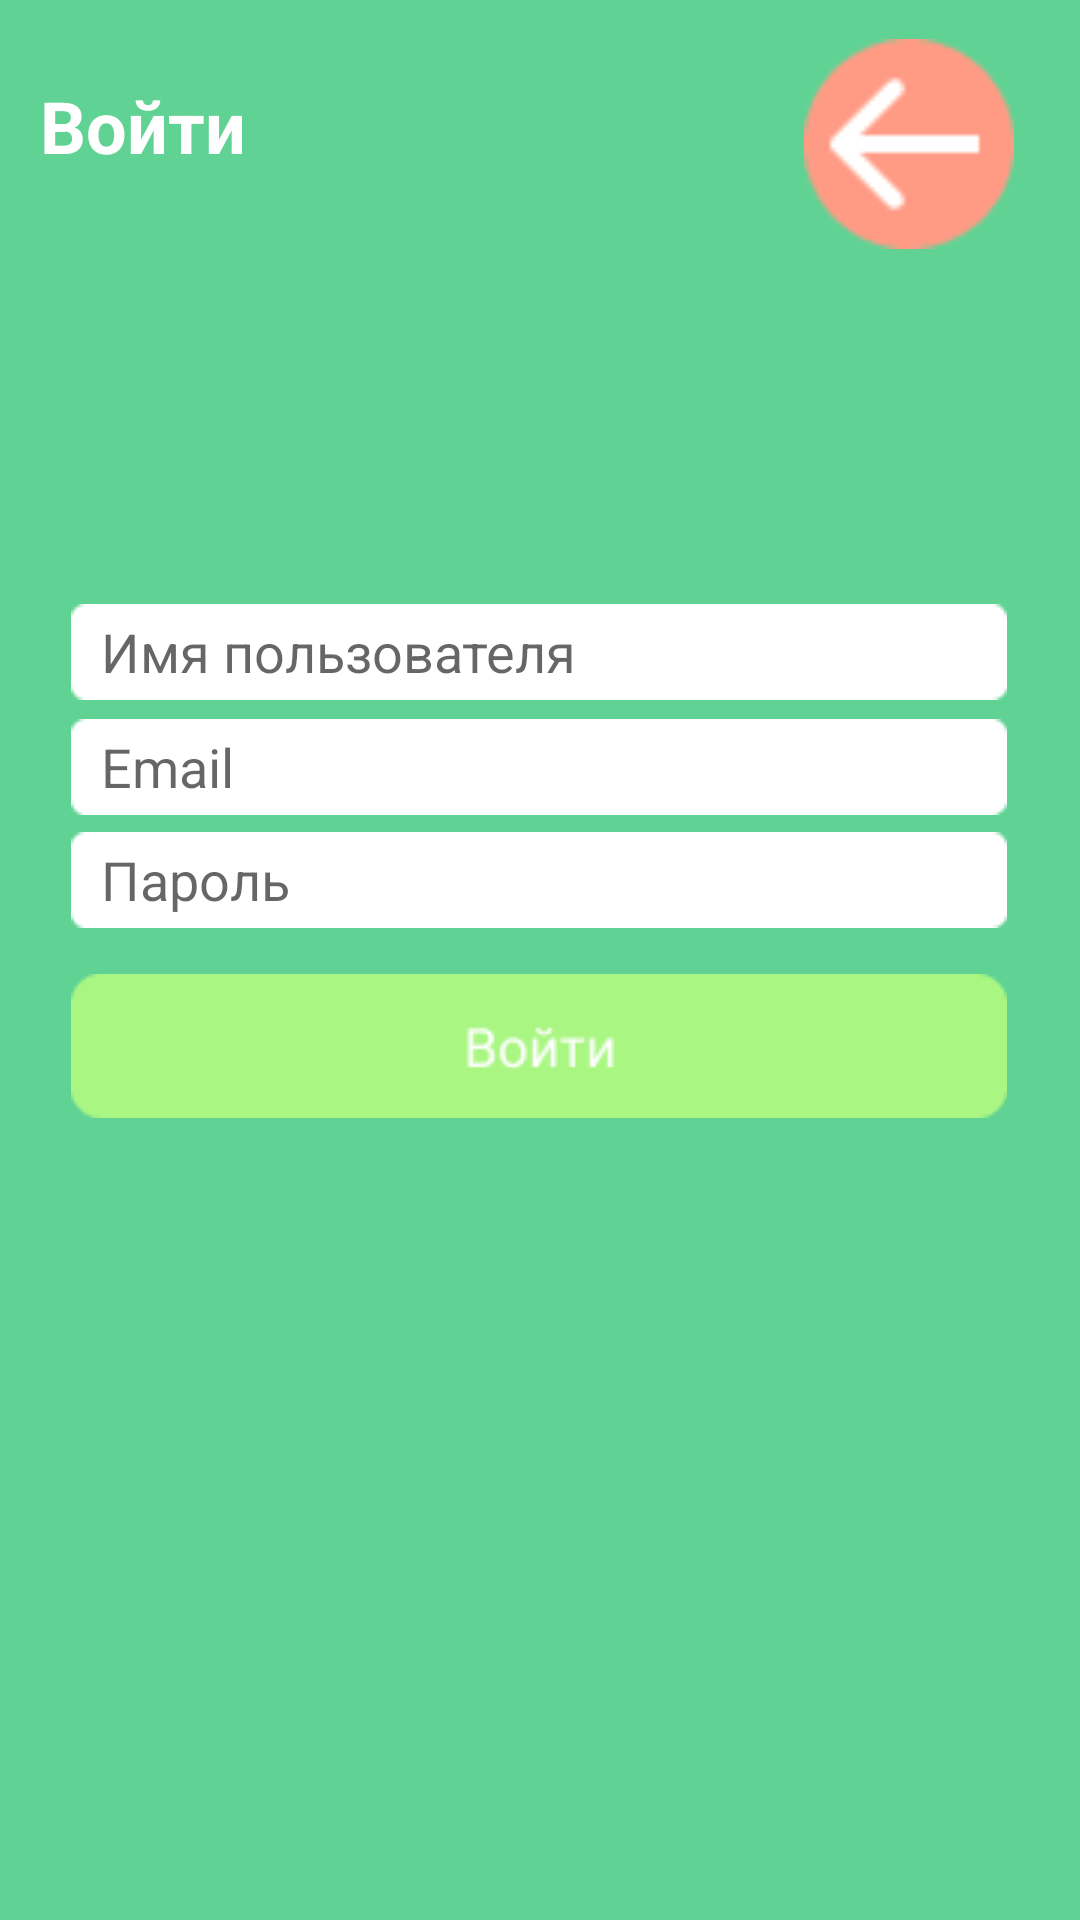

Named icons in this screenshot (1080 × 1920) and their centers, (x=x, y=y):
backbutton: (x=909, y=144)
